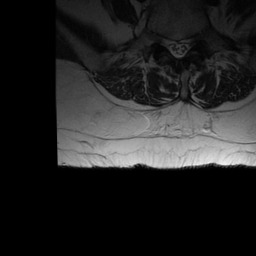CCS_normal: (174, 33, 182, 62)
LFS_normal: (190, 27, 199, 51)
LLS_normal: (182, 32, 190, 60)
RFS_normal: (159, 28, 167, 53)
RLS_normal: (167, 33, 174, 59)
